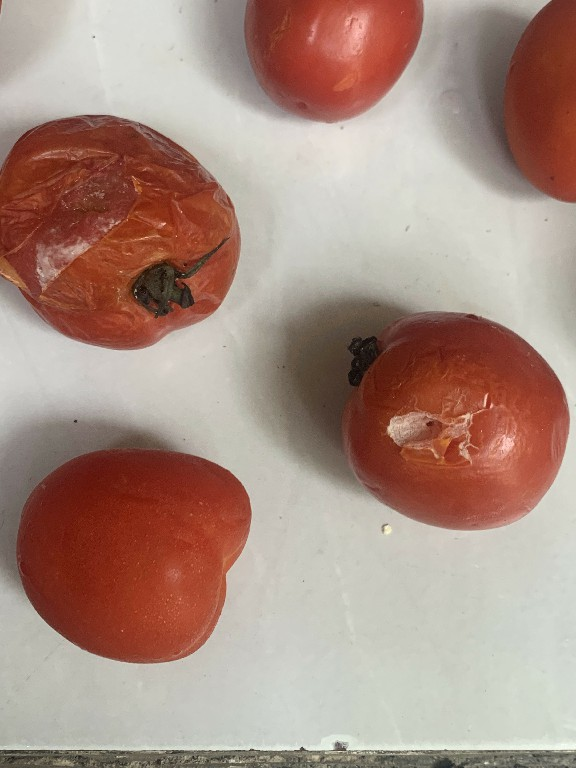NG: (0, 107, 252, 367), (333, 299, 571, 548)
OK: (10, 437, 261, 682)
